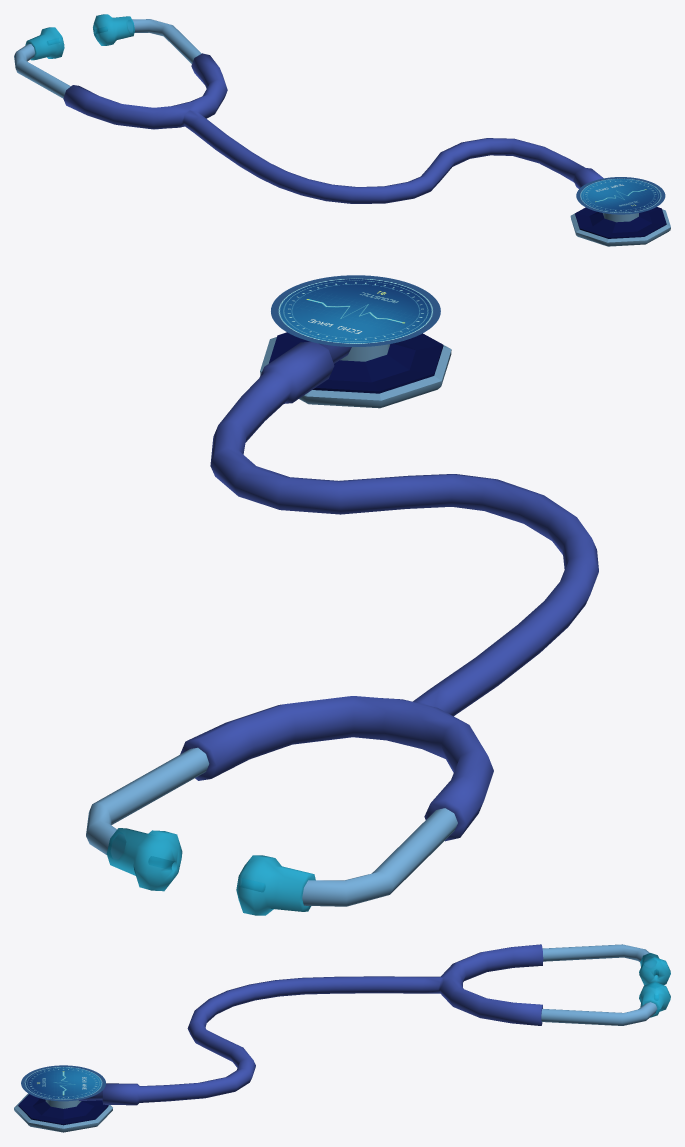
The model's file is echo-wave-stethoscope.obj.
3 renders of one model, top to bottom at view 1: azimuth 30°, elevation 25°; view 2: azimuth 150°, elevation 25°; view 3: azimuth 270°, elevation 25°, orthographic. The views are drawn at different scales.
Visible parts, largest first — view 1: stethescope.001, echo-wave-printed-diaphragm; view 2: stethescope.001, echo-wave-printed-diaphragm; view 3: stethescope.001, echo-wave-printed-diaphragm.
Boxes of the visible parts, <box> form: stethescope.001: <box>14,14,670,246</box>; echo-wave-printed-diaphragm: <box>576,177,665,214</box>; stethescope.001: <box>86,332,598,915</box>; echo-wave-printed-diaphragm: <box>271,275,440,346</box>; stethescope.001: <box>14,944,670,1132</box>; echo-wave-printed-diaphragm: <box>21,1065,105,1101</box>.
Bounding box in the file's own units: 1.01 × 0.0941 × 1.68.
6 materials, 1 textured.
